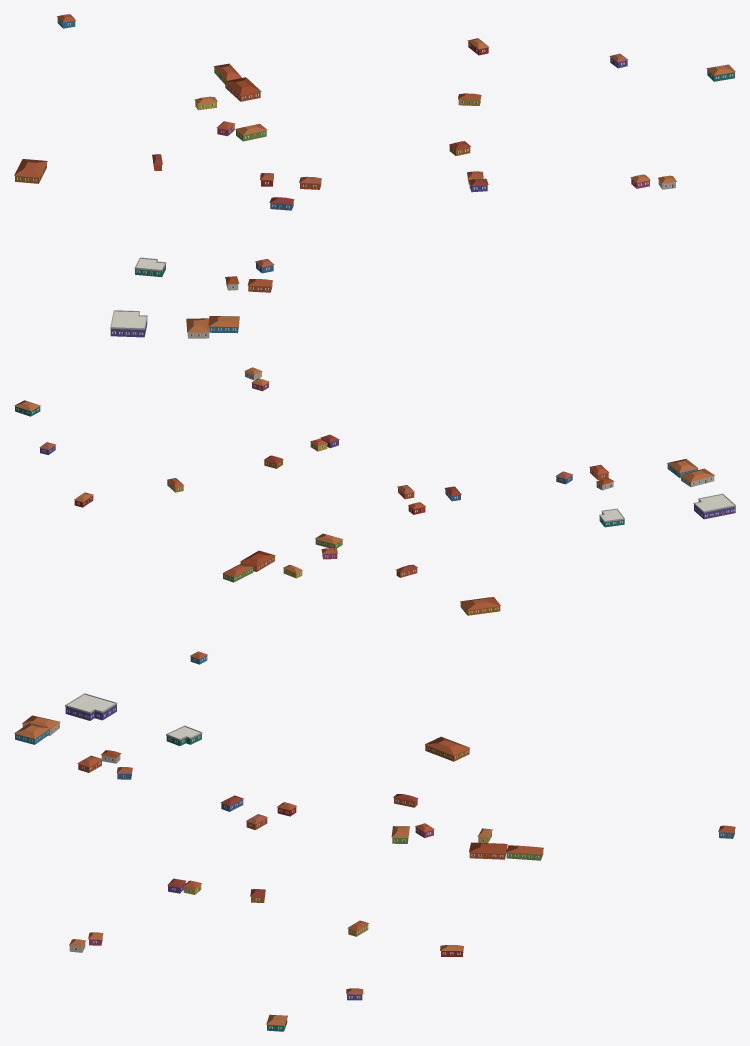
The model's file is msb_palmbeach_m21_m11.glb.
The picture shows the model from 3 angles, top to bottom: view 1: azimuth 30°, elevation 25°; view 2: azimuth 150°, elevation 25°; view 3: azimuth 270°, elevation 25°; orthographic projection. The views are drawn at different scales.
Visible parts, largest first — view 1: msb_palmbeach_m21_m11_lod0; view 2: msb_palmbeach_m21_m11_lod0; view 3: msb_palmbeach_m21_m11_lod0.
Part boxes in pixels (x1,y1,x2,y2): msb_palmbeach_m21_m11_lod0: [14, 14, 735, 338]; msb_palmbeach_m21_m11_lod0: [14, 367, 735, 664]; msb_palmbeach_m21_m11_lod0: [14, 693, 735, 1031].
Size of what is drawn, in the model's own units: 412 by 15.23 by 365.
Materials: 3 (1 with a texture image).
